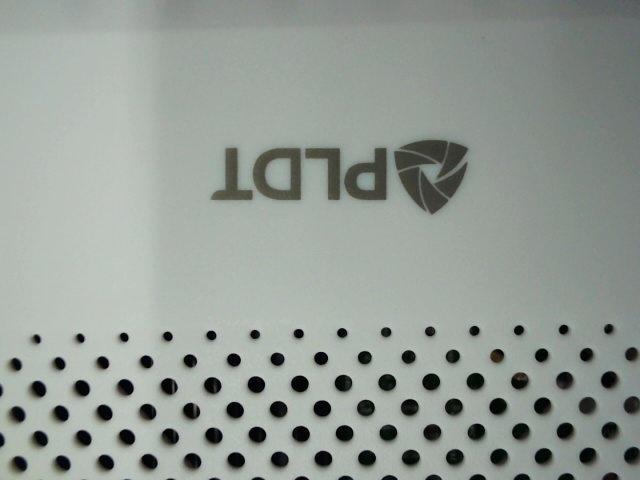BH_PLDT: (171, 122, 493, 227)
